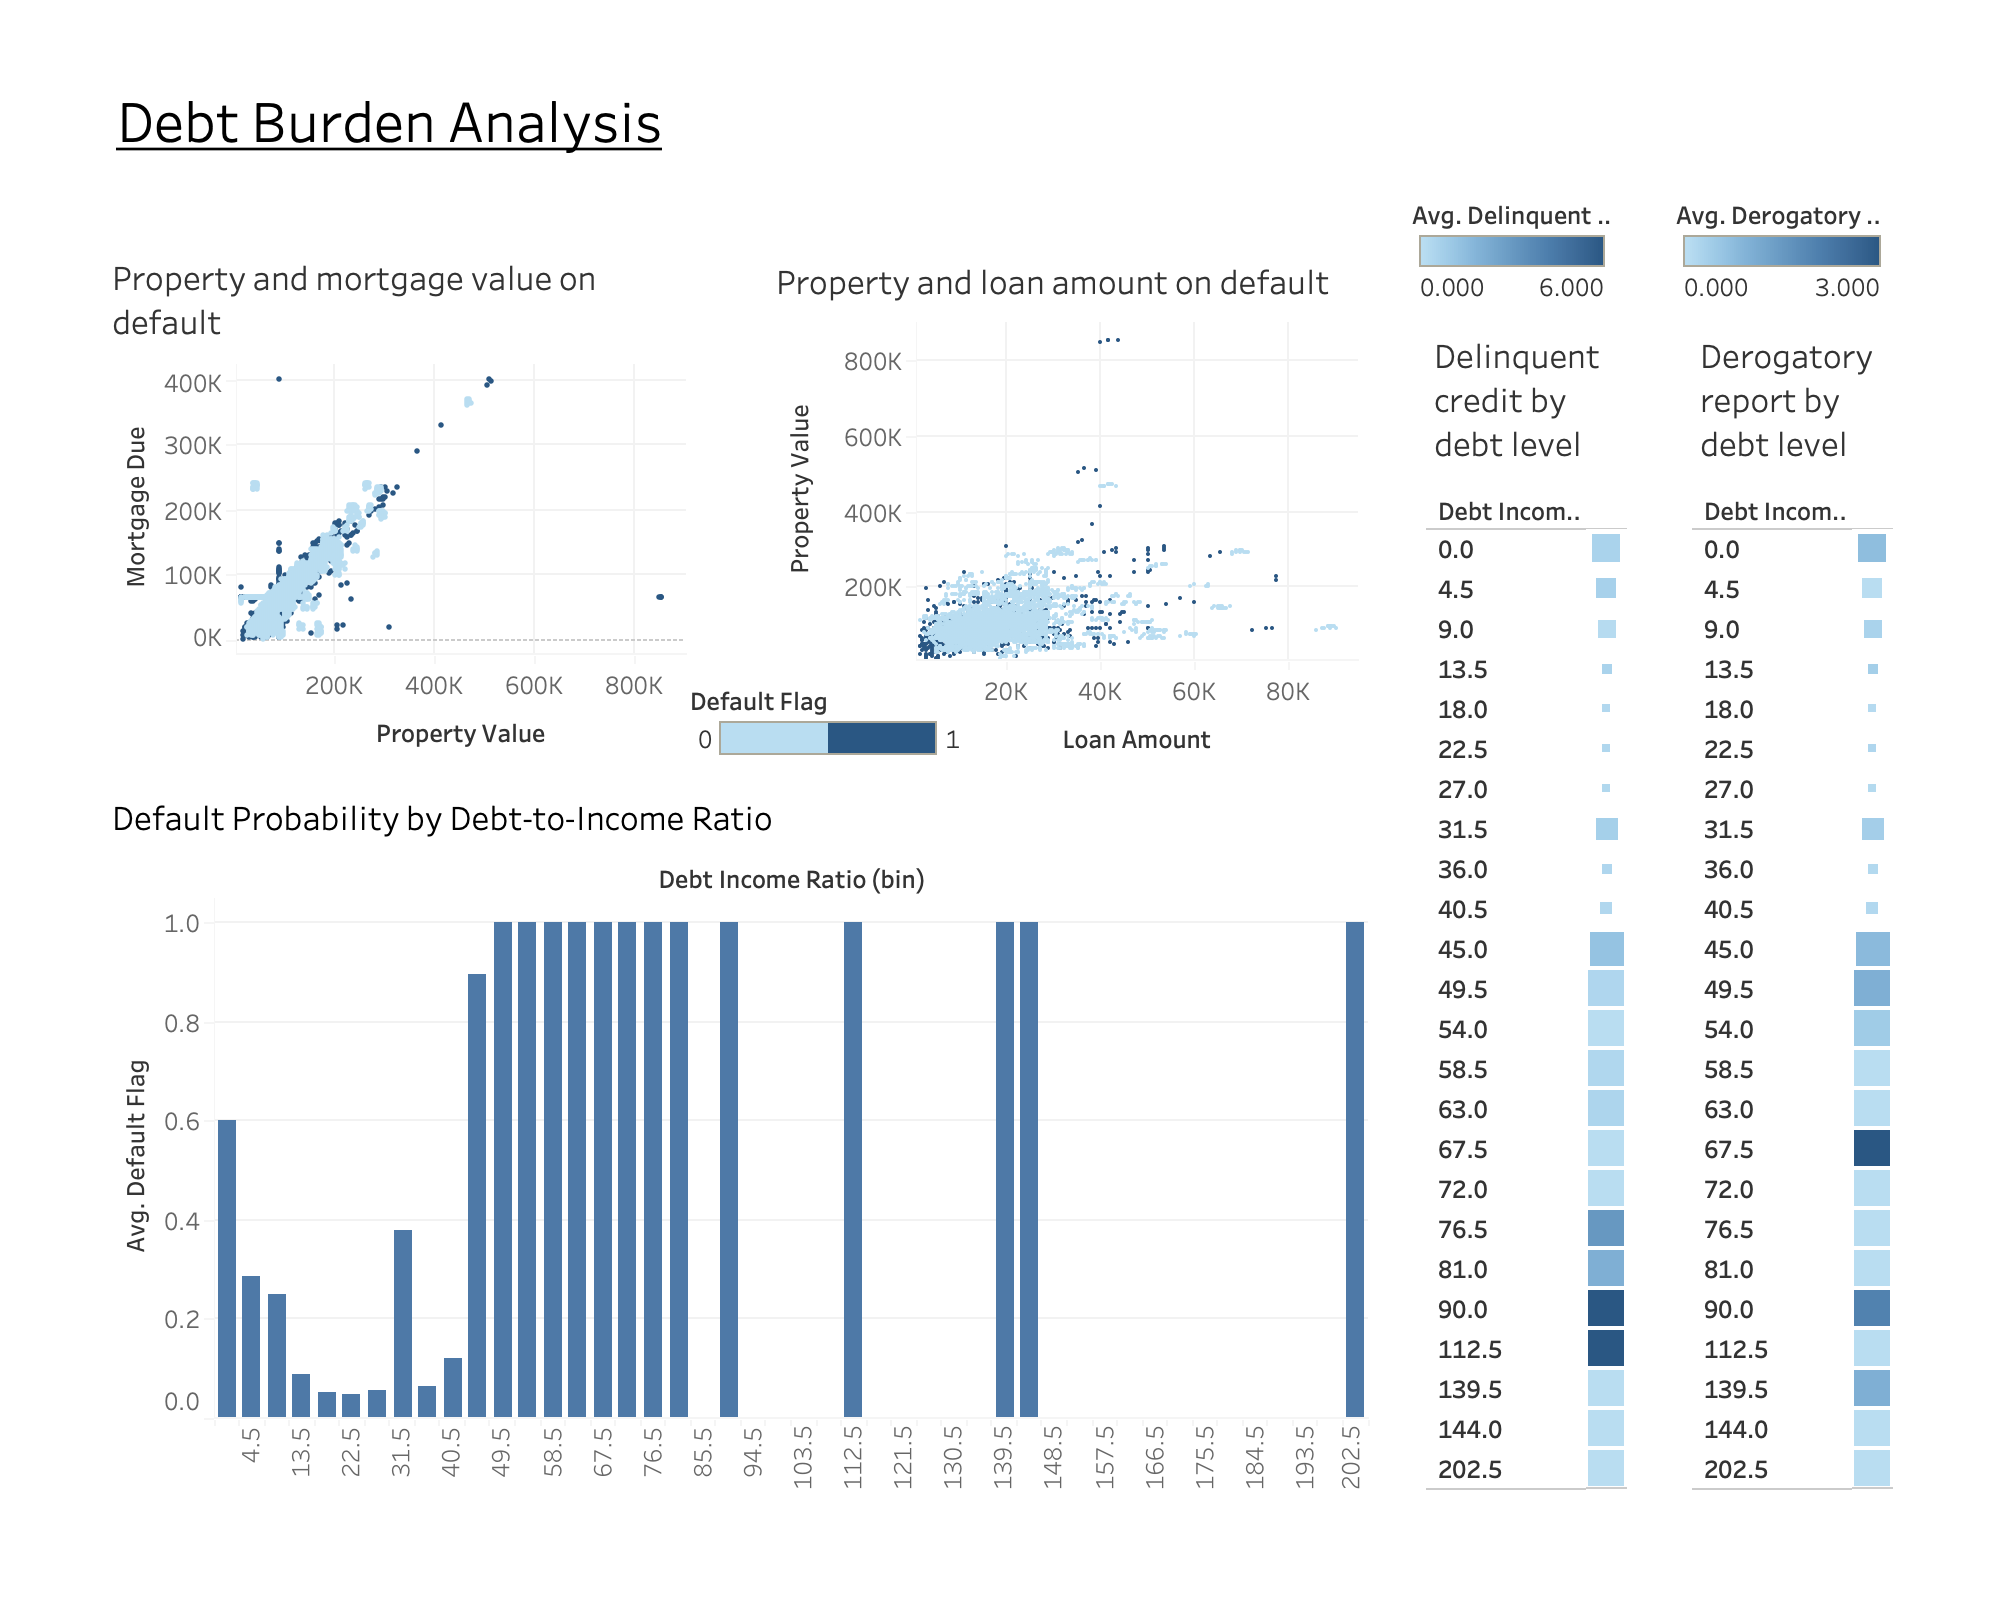

This screenshot's page, from the dashboard's own definition file:
{"tool":"tableau","page":{"name":"Debt Burden","canvas":[1000,800],"ordinal":1},"visuals":[{"type":"text","box":[56,36,607,49]},{"type":"legend","title":"Delinquent Credit","param":"[federated.0m3ud0x0xd8ejk149ppzg0c32j39].[avg:delinquent_credit:qk]","box":[706,95,101,76]},{"type":"legend","title":"Derogatory Report","param":"[federated.0m3ud0x0xd8ejk149ppzg0c32j39].[avg:derogatory_reports:qk]","box":[838,95,107,76]},{"type":"worksheet","title":"Property Mortgage ","mark":"Circle","rows":["mortgage_due"],"cols":["property_value"],"box":[52,121,291,261]},{"type":"worksheet","title":"Property L-amount","mark":"Circle","rows":["property_value"],"cols":["loan_amount"],"box":[384,123,295,262]},{"type":"worksheet","title":"Delinquent Credit","mark":"Automatic","rows":["Debt Income Ratio (bin)"],"box":[713,160,154,617]},{"type":"worksheet","title":"Derogatory Report","mark":"Automatic","rows":["Debt Income Ratio (bin)"],"box":[846,160,135,586]},{"type":"legend","title":"Property Mortgage ","param":"[federated.0m3ud0x0xd8ejk149ppzg0c32j39].[none:default_flag:qk]","box":[345,338,140,76]},{"type":"worksheet","title":"Debt to Income","mark":"Automatic","rows":["default_flag"],"cols":["Debt Income Ratio (bin)"],"box":[52,391,632,355]}]}

Visuals, with their boxes in screenshot pixels (x1, y1, x2, y2), scaled from the page's 1000x800 canvas onto the 2000x1600 screenshot:
text: locate(112, 72, 1326, 170)
"Delinquent Credit" legend: locate(1412, 190, 1614, 342)
"Derogatory Report" legend: locate(1676, 190, 1890, 342)
"Property Mortgage " worksheet (Circle marks): locate(104, 242, 686, 764)
"Property L-amount" worksheet (Circle marks): locate(768, 246, 1358, 770)
"Delinquent Credit" worksheet: locate(1426, 320, 1734, 1554)
"Derogatory Report" worksheet: locate(1692, 320, 1962, 1492)
"Property Mortgage " legend: locate(690, 676, 970, 828)
"Debt to Income" worksheet: locate(104, 782, 1368, 1492)
